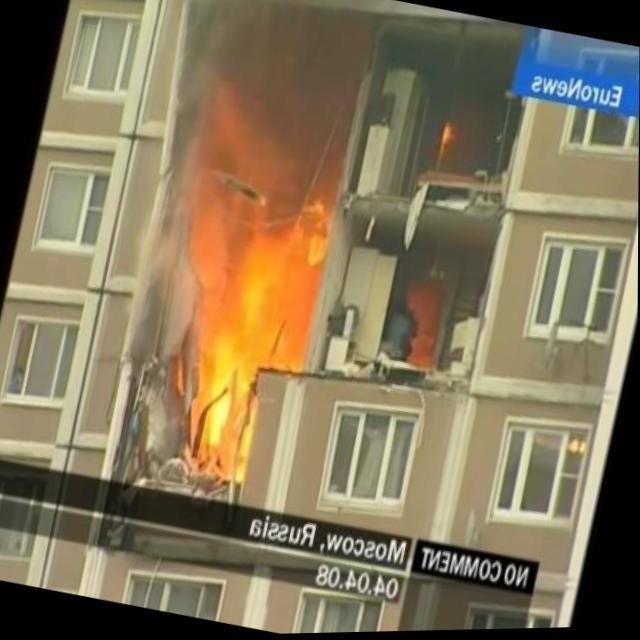fire: (112, 34, 371, 502), (395, 282, 449, 367), (437, 121, 456, 153)
